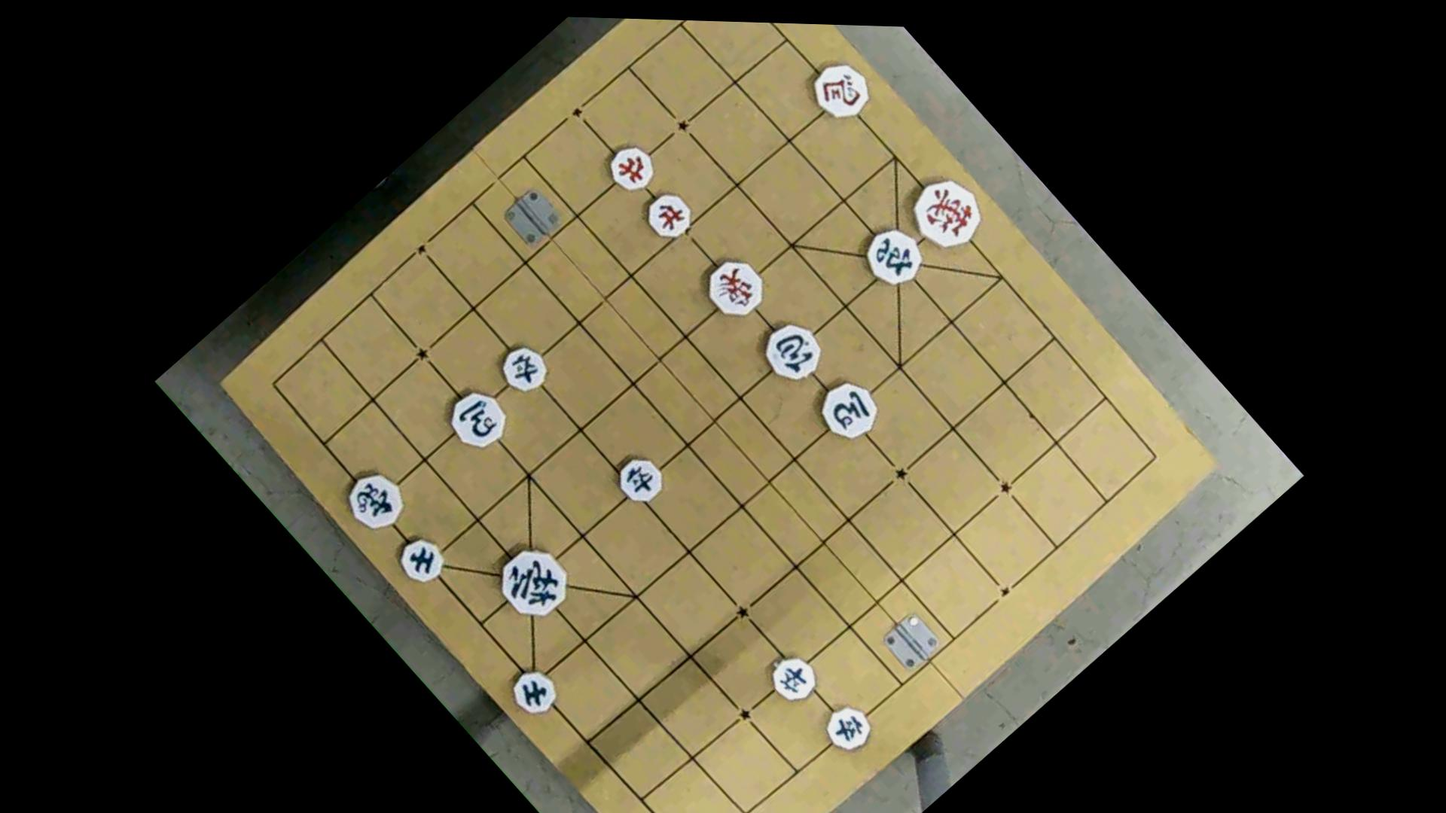cha_green: (858, 219, 929, 293)
jol_green: (607, 445, 672, 512), (761, 646, 825, 711), (816, 695, 879, 760), (492, 336, 554, 400)
jol_red: (637, 182, 701, 247), (601, 136, 665, 200)
ma_green: (810, 371, 886, 449), (438, 382, 513, 457)
ma_red: (801, 50, 878, 128)
po_green: (754, 312, 831, 390)
sa_green: (501, 659, 563, 724), (390, 529, 451, 591)
sang_green: (336, 460, 413, 538)
sang_red: (695, 248, 772, 327)
wang_green: (488, 537, 580, 629)
wang_red: (901, 166, 991, 257)
